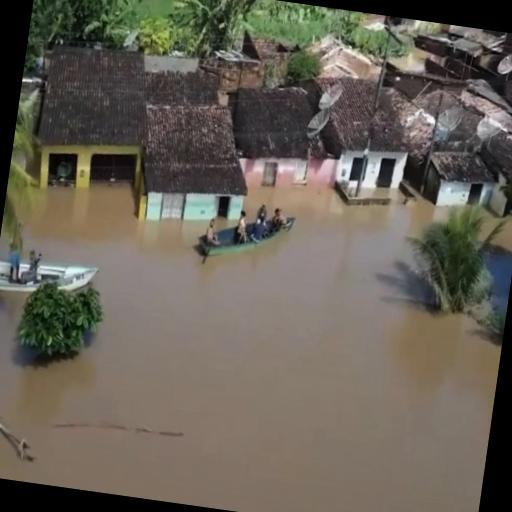flood: (0, 186, 502, 512), (480, 213, 512, 314)
house: (124, 65, 260, 241), (24, 34, 160, 200), (301, 76, 411, 206), (224, 76, 320, 192), (418, 142, 496, 214)
